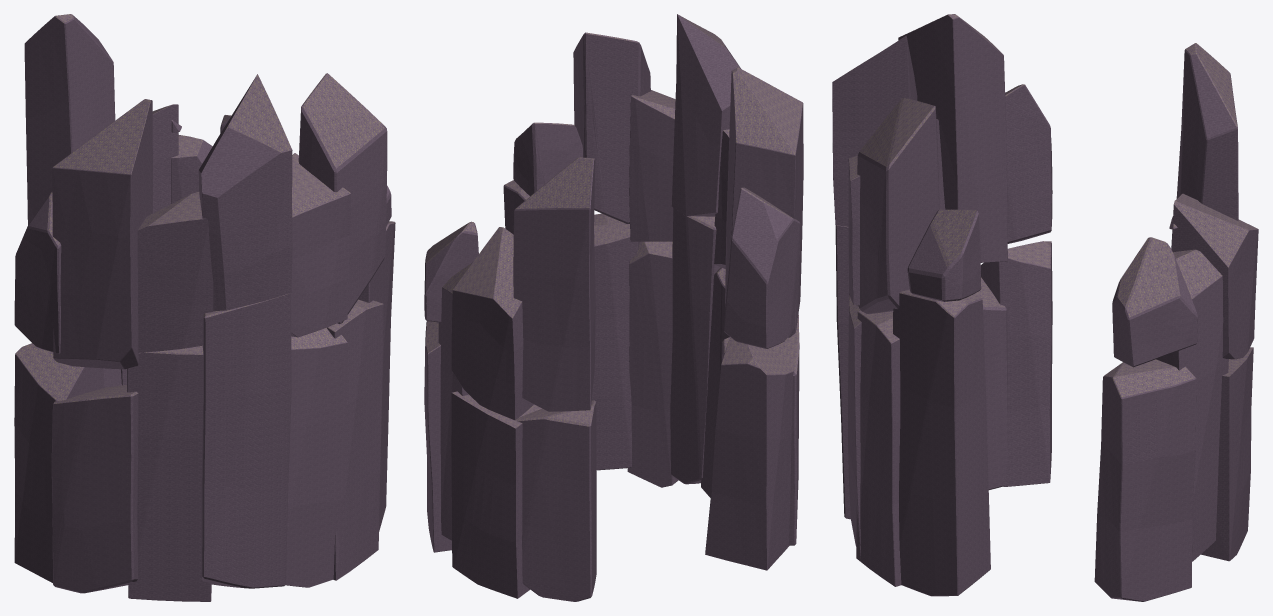
File: G03_Hollow_ring.fbx
3 renders of one model, left to right at view 1: azimuth 30°, elevation 25°; view 2: azimuth 150°, elevation 25°; view 3: azimuth 270°, elevation 25°, orthographic. The views are drawn at different scales.
Visible parts, largest first — view 1: G03_slab_7_0, G03_slab_5_1, G03_slab_6_0, G03_slab_5_0, G03_slab_7_1, G03_slab_8_0, G03_slab_3_1, G03_slab_9_1, G03_slab_6_1, G03_slab_4_0, G03_slab_9_0, G03_slab_8_1 (+4 smaller); view 2: G03_slab_3_1, G03_slab_4_0, G03_slab_3_0, G03_slab_2_0, G03_slab_2_1, G03_slab_7_0, G03_slab_8_0, G03_slab_5_1, G03_slab_4_1, G03_slab_9_1, G03_slab_7_1, G03_slab_9_0 (+9 smaller); view 3: G03_slab_10_0, G03_slab_0_0, G03_slab_5_1, G03_slab_9_1, G03_slab_4_0, G03_slab_9_0, G03_slab_1_0, G03_slab_3_1, G03_slab_0_1, G03_slab_2_1, G03_slab_7_1, G03_slab_4_1 (+6 smaller).
Part boxes in pixels (left/top/right/bottom): G03_slab_7_0: left=201, top=293, right=291, bottom=588; G03_slab_5_1: left=52, top=99, right=152, bottom=369; G03_slab_6_0: left=127, top=345, right=211, bottom=601; G03_slab_5_0: left=51, top=385, right=138, bottom=593; G03_slab_7_1: left=198, top=74, right=292, bottom=311; G03_slab_8_0: left=285, top=327, right=347, bottom=587; G03_slab_3_1: left=24, top=14, right=115, bottom=225; G03_slab_9_1: left=298, top=73, right=387, bottom=323; G03_slab_6_1: left=137, top=192, right=213, bottom=352; G03_slab_4_0: left=14, top=343, right=104, bottom=582; G03_slab_9_0: left=327, top=299, right=383, bottom=580; G03_slab_8_1: left=291, top=153, right=350, bottom=337; G03_slab_3_1: left=513, top=157, right=595, bottom=411; G03_slab_4_0: left=705, top=337, right=793, bottom=570; G03_slab_3_0: left=516, top=400, right=596, bottom=601; G03_slab_2_0: left=451, top=391, right=541, bottom=598; G03_slab_2_1: left=451, top=227, right=533, bottom=420; G03_slab_7_0: left=670, top=208, right=720, bottom=484; G03_slab_8_0: left=627, top=241, right=678, bottom=487; G03_slab_5_1: left=725, top=67, right=803, bottom=337; G03_slab_4_1: left=723, top=187, right=800, bottom=348; G03_slab_9_1: left=573, top=32, right=650, bottom=223; G03_slab_7_1: left=671, top=14, right=740, bottom=216; G03_slab_9_0: left=591, top=213, right=639, bottom=470; G03_slab_10_0: left=893, top=289, right=990, bottom=596; G03_slab_0_0: left=1094, top=359, right=1196, bottom=601; G03_slab_5_1: left=898, top=14, right=1007, bottom=262; G03_slab_9_1: left=857, top=97, right=939, bottom=313; G03_slab_4_0: left=980, top=241, right=1052, bottom=486; G03_slab_9_0: left=856, top=310, right=901, bottom=586; G03_slab_1_0: left=1156, top=249, right=1228, bottom=561; G03_slab_3_1: left=1176, top=43, right=1238, bottom=220; G03_slab_0_1: left=1112, top=237, right=1197, bottom=367; G03_slab_2_1: left=1171, top=193, right=1258, bottom=359; G03_slab_7_1: left=832, top=35, right=917, bottom=226; G03_slab_4_1: left=1005, top=84, right=1052, bottom=243.
Bounding box in the file's own units: 10.72 × 15.5 × 12.02.
